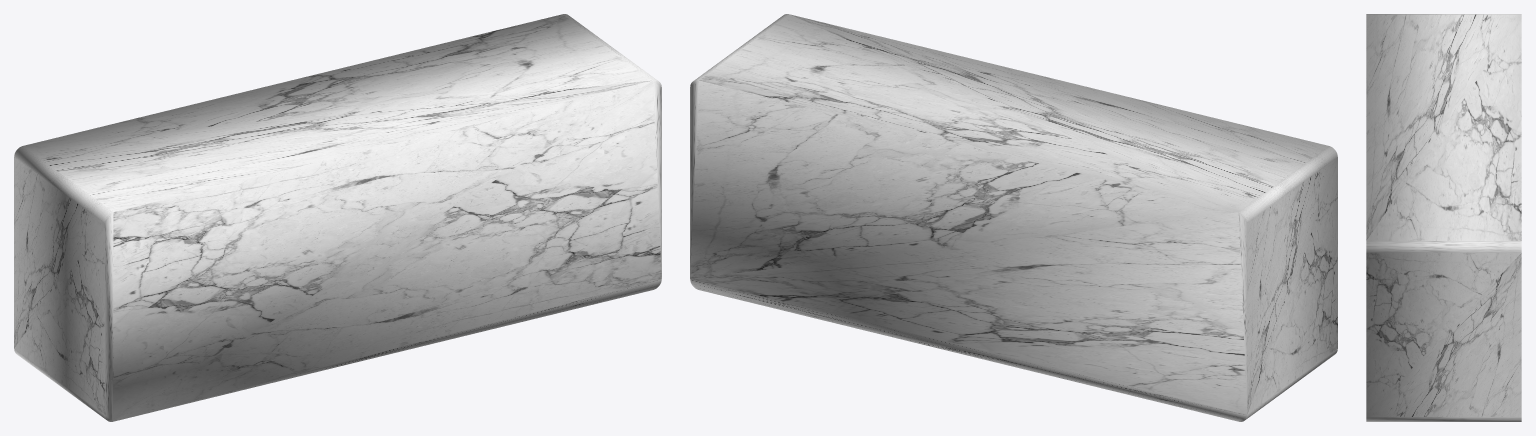
The model's file is CountertopMarble.obj.
3 renders of one model, left to right at view 1: azimuth 30°, elevation 25°; view 2: azimuth 150°, elevation 25°; view 3: azimuth 270°, elevation 25°, orthographic. The views are drawn at different scales.
Parts seen in each view (by area): view 1: Countertop; view 2: Countertop; view 3: Countertop.
Boxes of the visible parts, x1,y1,x2,y2 form: Countertop: (14,14,661,421); Countertop: (690,14,1337,421); Countertop: (1366,14,1521,421).
Size of the model in its own units: 1.63 by 0.5842 by 0.4572.
